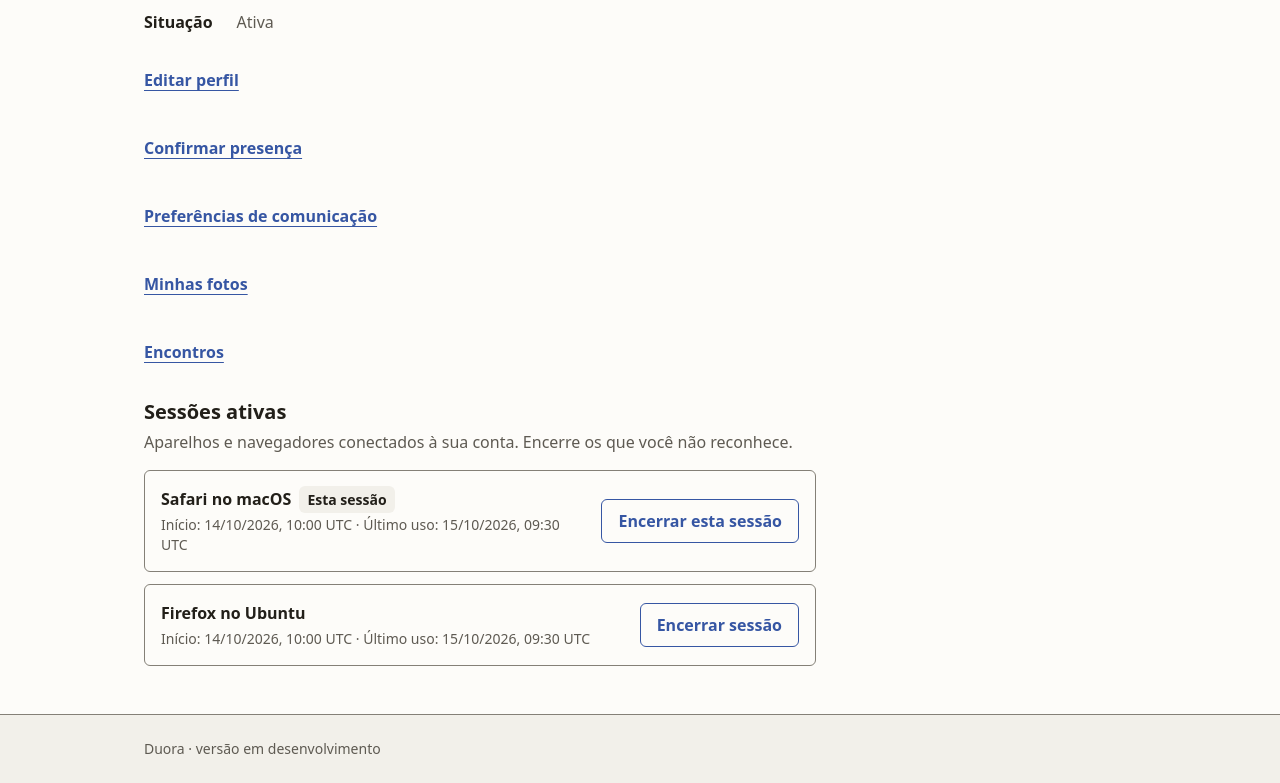
Test case: área da conta › falha ao encerrar sessão mostra erro e mantém a lista
The image size is (1280, 783).
(page scrolled)
Click the button with aria-label "Encerrar sessão: Firefox no Ubuntu" at [719, 625], box left=640, top=603, right=799, bottom=647
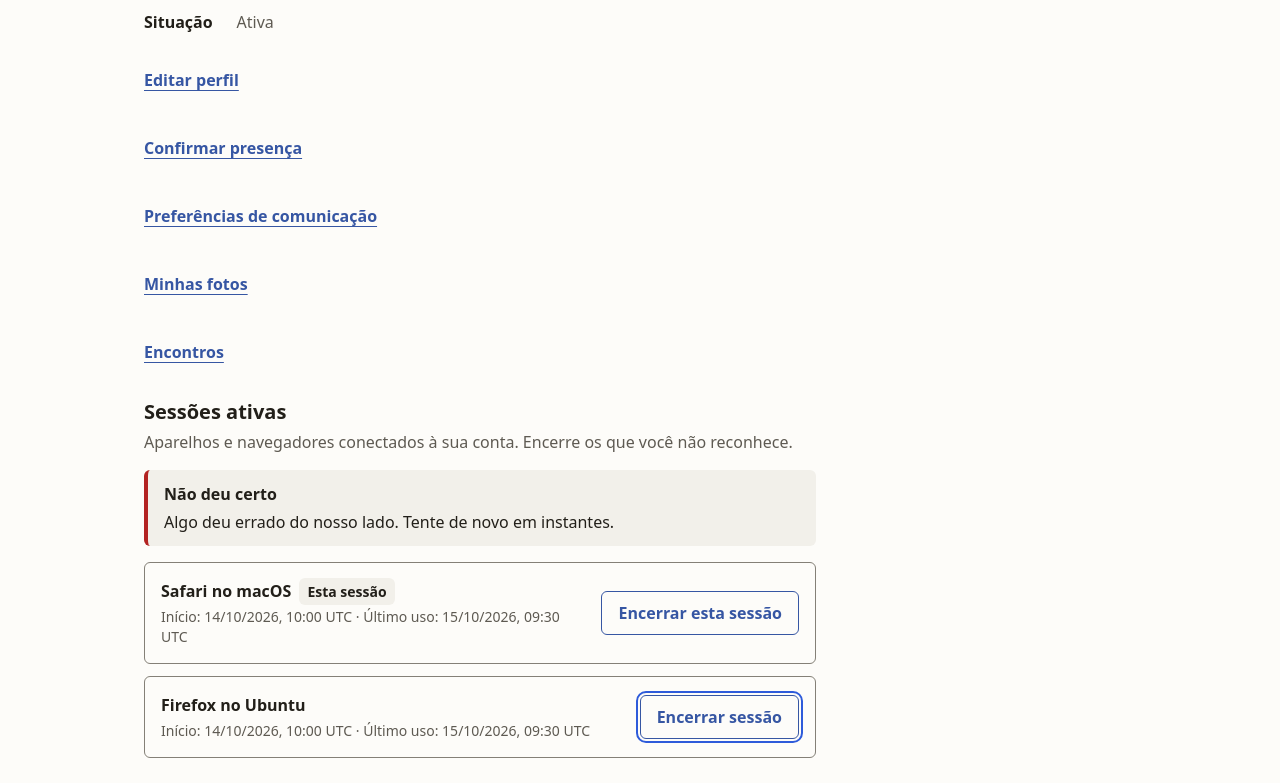
Expected: the number of list items is 2, left=144, top=562, right=816, bottom=664; left=144, top=676, right=816, bottom=758
Result: the message shows "Algo deu errado do nosso lado." at left=164, top=511, right=614, bottom=533
